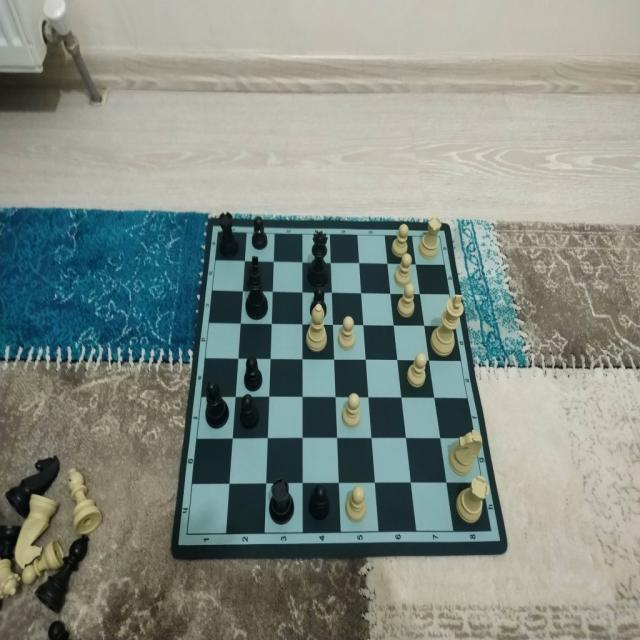chess-table-corners: (180, 526, 193, 542), (486, 524, 496, 539), (434, 230, 446, 242), (214, 226, 224, 238)
